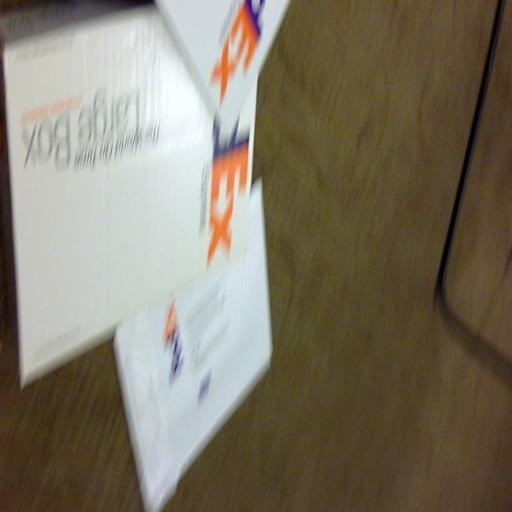Amazon: (0, 22, 256, 265), (150, 0, 291, 121)
